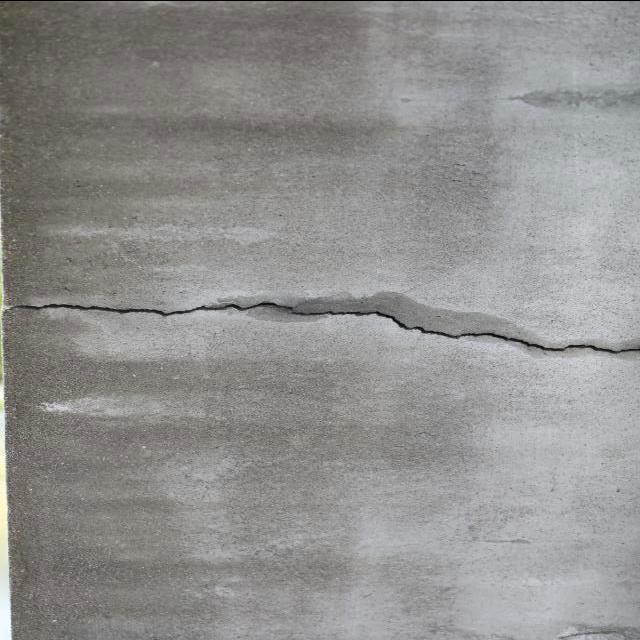SurfaceCrack: (2, 255, 640, 396)
